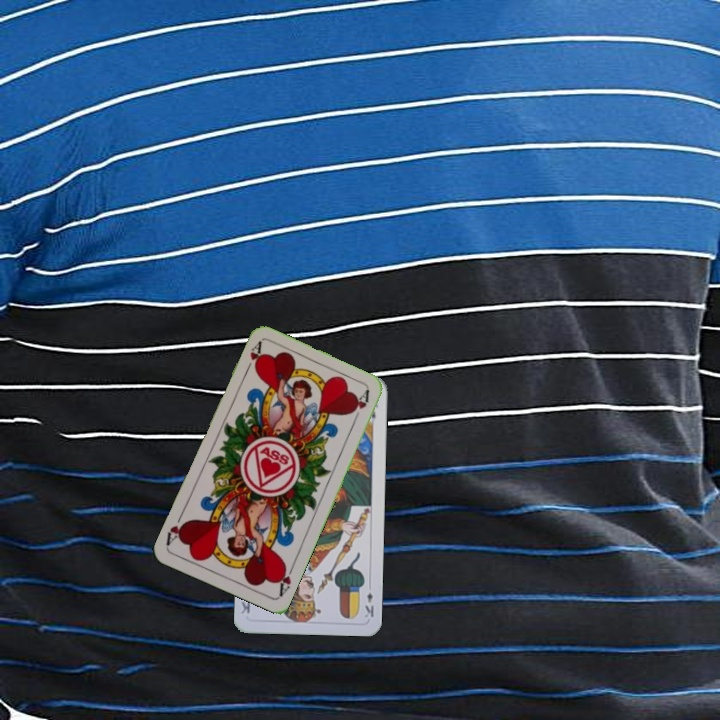EK: (360, 588, 376, 620)
HA: (273, 559, 297, 599), (241, 338, 264, 377)
